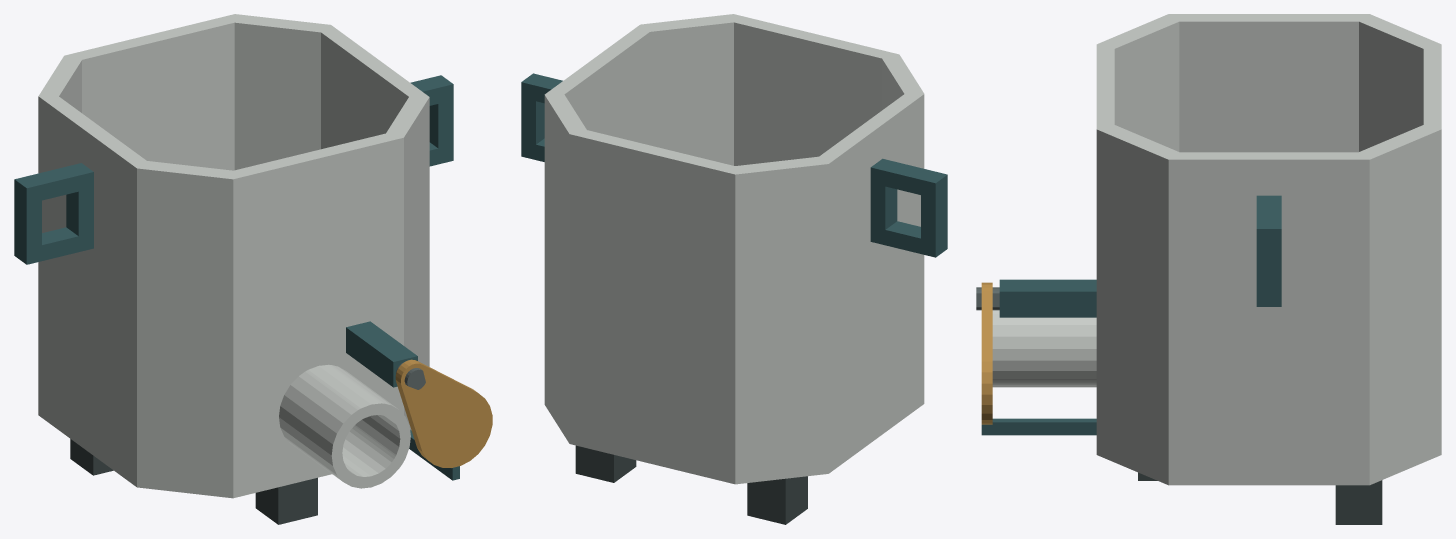
3 renders of one model, left to right at view 1: azimuth 30°, elevation 25°; view 2: azimuth 150°, elevation 25°; view 3: azimuth 270°, elevation 25°, orthographic. The views are drawn at different scales.
Visible parts, largest first — view 1: WholeOctagonalTankAndIntegralThroughOutlet, WholeRoundSideGateWithTrueEarHole, WholeClosedSideLiftEar_-1, WholeUpperPinFoundation, WholeClosedSideLiftEar_1, WholeFlatGroundFoot_3, WholeFlatGroundFoot_1; view 2: WholeOctagonalTankAndIntegralThroughOutlet, WholeClosedSideLiftEar_-1, WholeFlatGroundFoot_1, WholeClosedSideLiftEar_1, WholeFlatGroundFoot_2; view 3: WholeOctagonalTankAndIntegralThroughOutlet, WholeUpperPinFoundation, WholeClosedSideLiftEar_1, WholeLowerFiniteGateStop, WholeFlatGroundFoot_2, WholeRoundSideGateWithTrueEarHole.
Part boxes in pixels (bbox=[...]): WholeOctagonalTankAndIntegralThroughOutlet: bbox=[38, 14, 429, 498]; WholeRoundSideGateWithTrueEarHole: bbox=[395, 359, 492, 467]; WholeClosedSideLiftEar_-1: bbox=[14, 163, 93, 264]; WholeUpperPinFoundation: bbox=[346, 321, 417, 387]; WholeClosedSideLiftEar_1: bbox=[410, 75, 453, 166]; WholeFlatGroundFoot_3: bbox=[255, 477, 317, 524]; WholeFlatGroundFoot_1: bbox=[70, 439, 113, 475]; WholeOctagonalTankAndIntegralThroughOutlet: bbox=[544, 14, 924, 484]; WholeClosedSideLiftEar_-1: bbox=[870, 158, 947, 257]; WholeFlatGroundFoot_1: bbox=[747, 476, 807, 524]; WholeClosedSideLiftEar_1: bbox=[521, 73, 562, 161]; WholeFlatGroundFoot_2: bbox=[575, 445, 636, 482]; WholeOctagonalTankAndIntegralThroughOutlet: bbox=[992, 14, 1441, 485]; WholeUpperPinFoundation: bbox=[999, 279, 1096, 317]; WholeClosedSideLiftEar_1: bbox=[1256, 195, 1281, 306]; WholeLowerFiniteGateStop: bbox=[981, 418, 1096, 435]; WholeFlatGroundFoot_2: bbox=[1335, 480, 1382, 524]; WholeRoundSideGateWithTrueEarHole: bbox=[981, 282, 992, 424].
Size of the model in its own units: 1.4 by 1.18 by 1.29.
